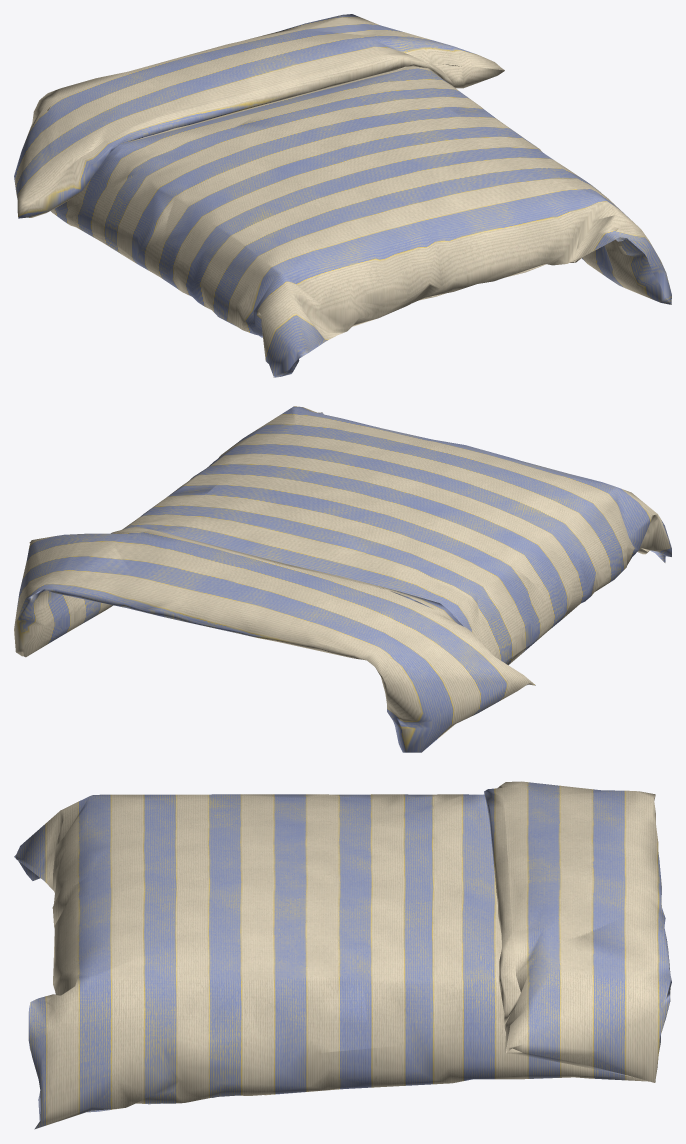
File: Blanket.fbx
3 views of the same model, one above another, from view 1: azimuth 30°, elevation 25°; view 2: azimuth 150°, elevation 25°; view 3: azimuth 270°, elevation 25° (orthographic). The views are drawn at different scales.
Parts seen in each view (by area): view 1: blanket; view 2: blanket; view 3: blanket.
Part boxes in pixels (<box>): blanket: <box>14,14,671,377</box>; blanket: <box>14,406,671,752</box>; blanket: <box>14,781,671,1129</box>.
Bounding box in the file's own units: 167 × 41.87 × 163.
Materials: 1 (1 with a texture image).
